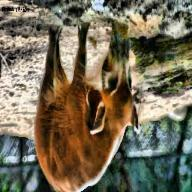boar: (42, 15, 144, 192)
